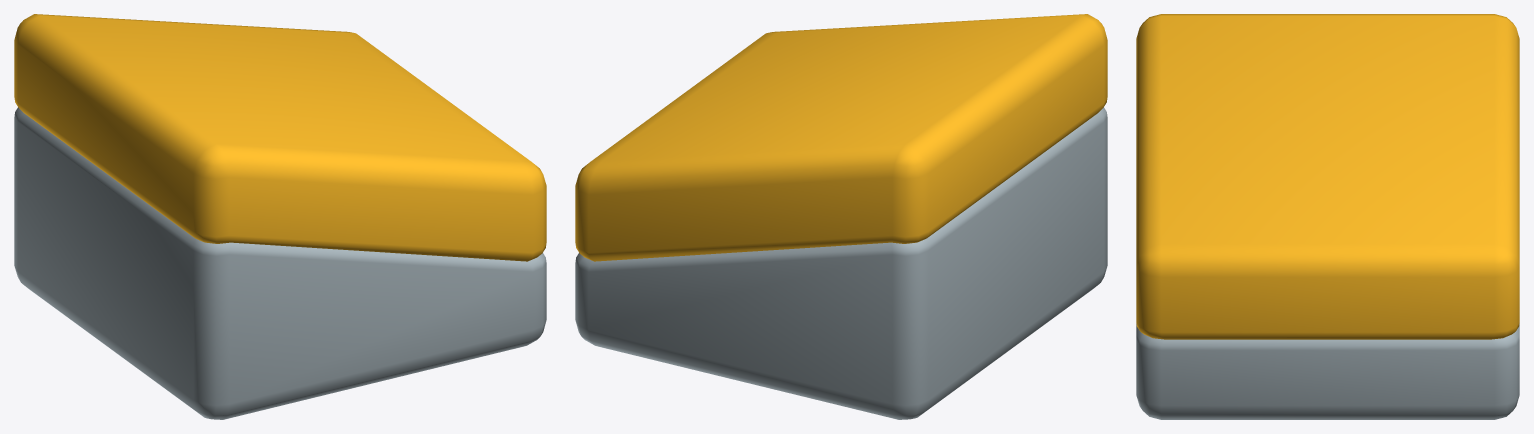
The model's file is tileSlopeLowMedium_teamYellow-col.glb.
3 renders of one model, left to right at view 1: azimuth 30°, elevation 25°; view 2: azimuth 150°, elevation 25°; view 3: azimuth 270°, elevation 25°, orthographic. The views are drawn at different scales.
Visible parts, largest first — view 1: tileSlopeLowMedium_teamYellow-col; view 2: tileSlopeLowMedium_teamYellow-col; view 3: tileSlopeLowMedium_teamYellow-col.
Boxes of the visible parts, <box> form: tileSlopeLowMedium_teamYellow-col: <box>14,14,546,419</box>; tileSlopeLowMedium_teamYellow-col: <box>575,14,1107,419</box>; tileSlopeLowMedium_teamYellow-col: <box>1136,14,1519,419</box>.
Size of the model in its own units: 2 by 1.5 by 2.
